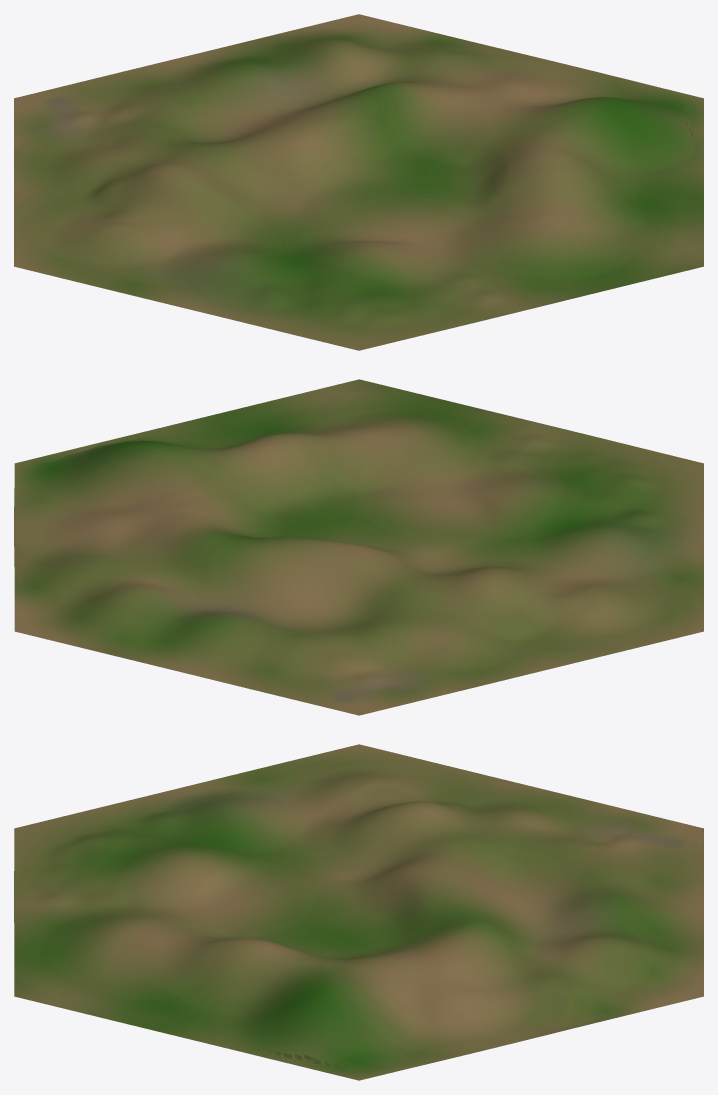
The model's file is Forest5.glb.
3 renders of one model, top to bottom at view 1: azimuth 30°, elevation 25°; view 2: azimuth 150°, elevation 25°; view 3: azimuth 270°, elevation 25°, orthographic.
Visible parts, largest first — view 1: Circle; view 2: Circle; view 3: Circle.
Part boxes in pixels (x1,y1,x2,y2): Circle: (14,14,703,350); Circle: (14,379,703,715); Circle: (14,744,703,1080).
Size of the model in its own units: 400 by 20.18 by 347.
1 material, 1 textured.
